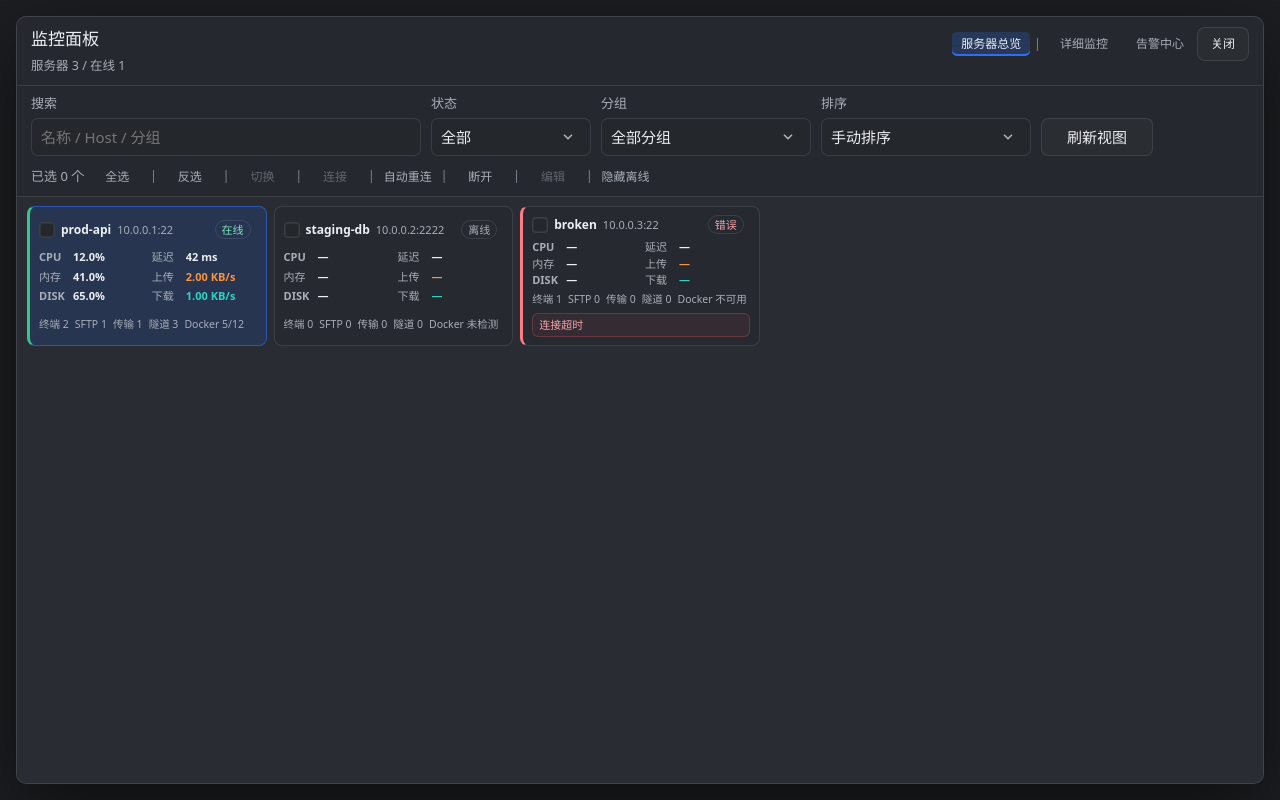
Test: MultiServerDashboardDialog › toggles selection from the card checkbox without opening detail
The image size is (1280, 800).
What coordinates should you click on to do the following:
click the 1st checkbox with test id "dashboard-card-checkbox"
I would click on:
 (47, 230)
Its box is x1=39 y1=222 x2=55 y2=238.
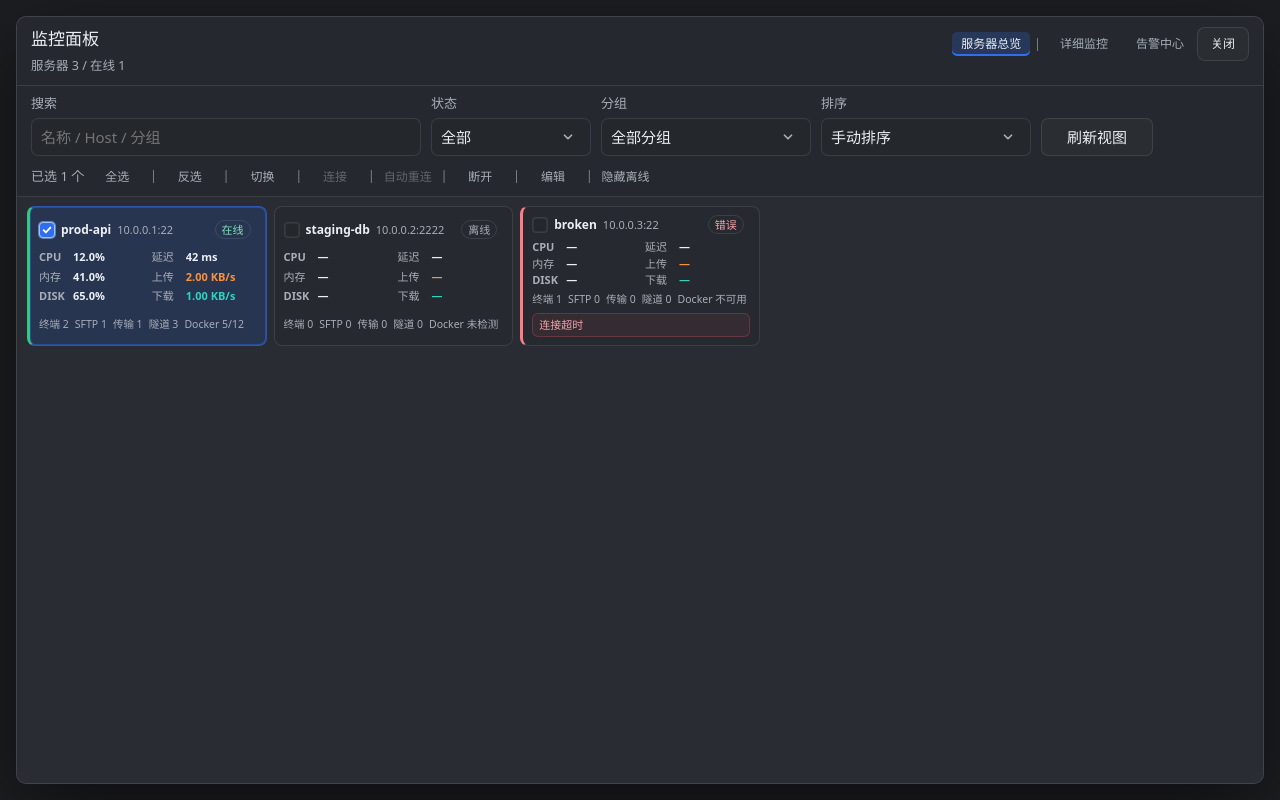
Now the text "已选 1 个" is shown, box x1=31 y1=167 x2=84 y2=186
What coordinates should you click on to do the following:
click the 1st checkbox with test id "dashboard-card-checkbox"
I would click on:
 (47, 230)
Its box is x1=39 y1=222 x2=55 y2=238.
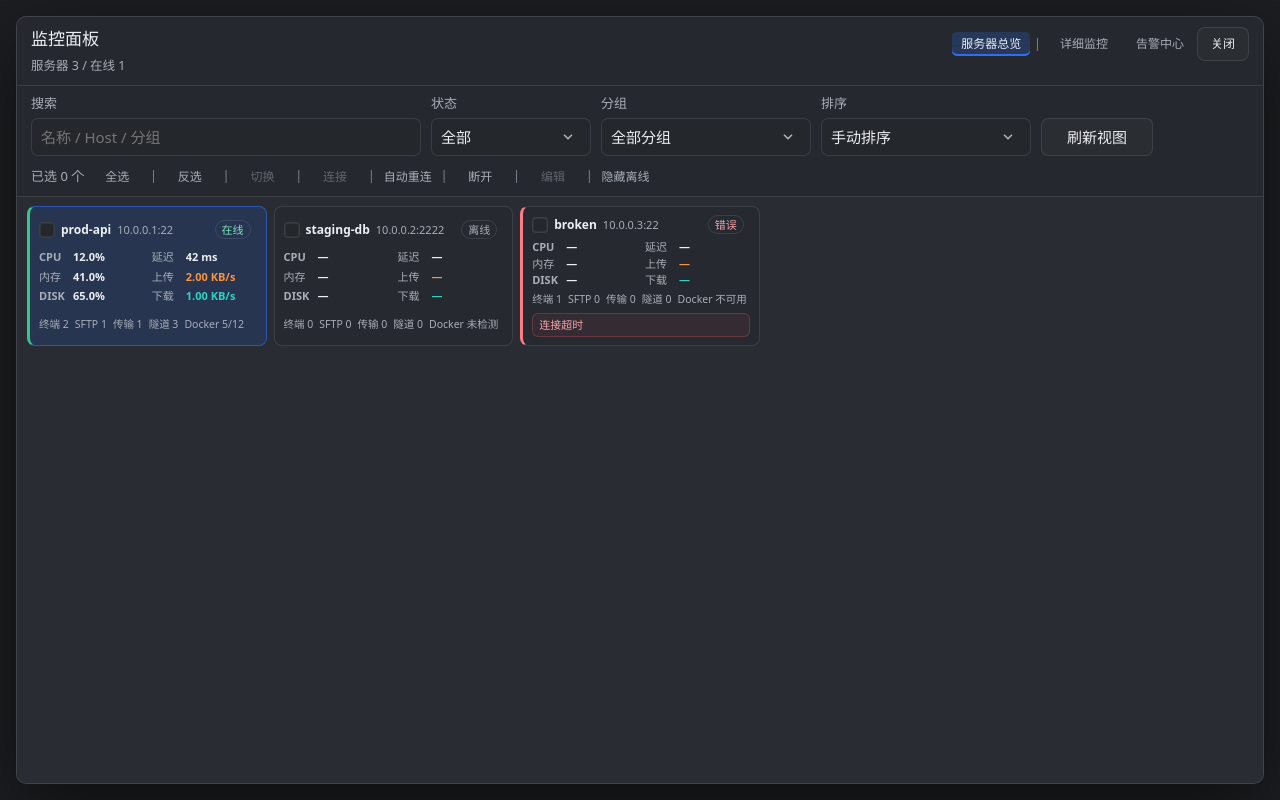
Now the text "已选 0 个" is shown, box x1=31 y1=167 x2=84 y2=186
